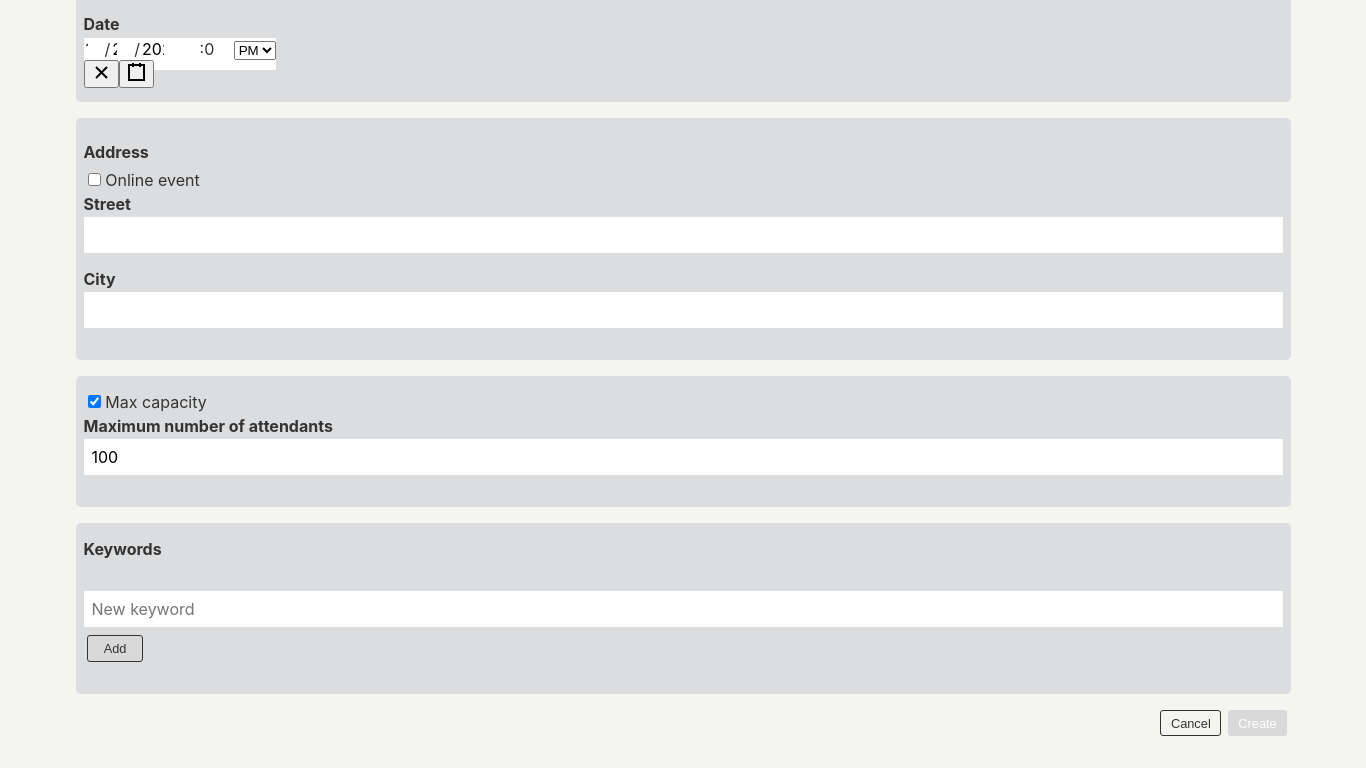
Scenario: Create Meetup unit tests › updates keyword list when submitting new keyword
The width and height of the screenshot is (1366, 768).
(page scrolled)
In the field labelled "New keyword": (683,609) [84,591,1282,627], type "basketball"
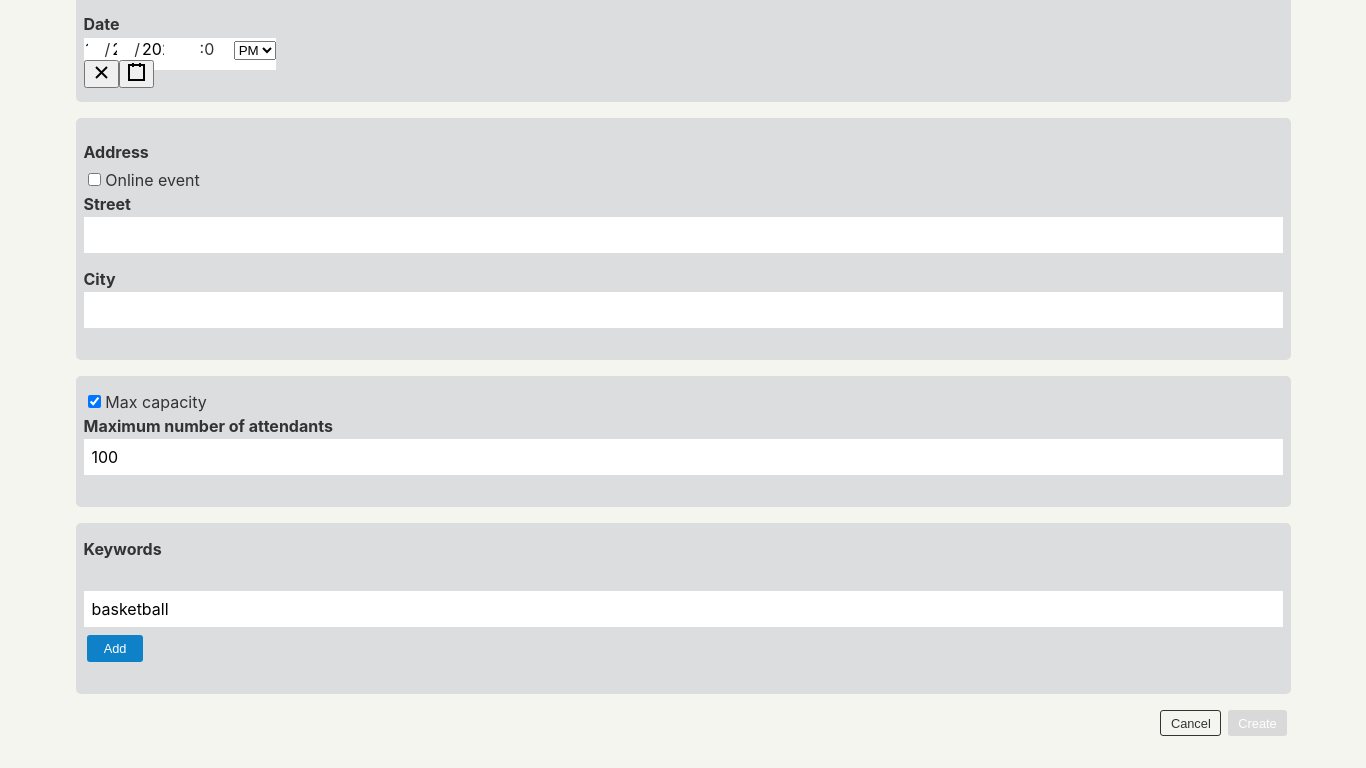
Click the button "Add": (115,648) [87,635,144,662]
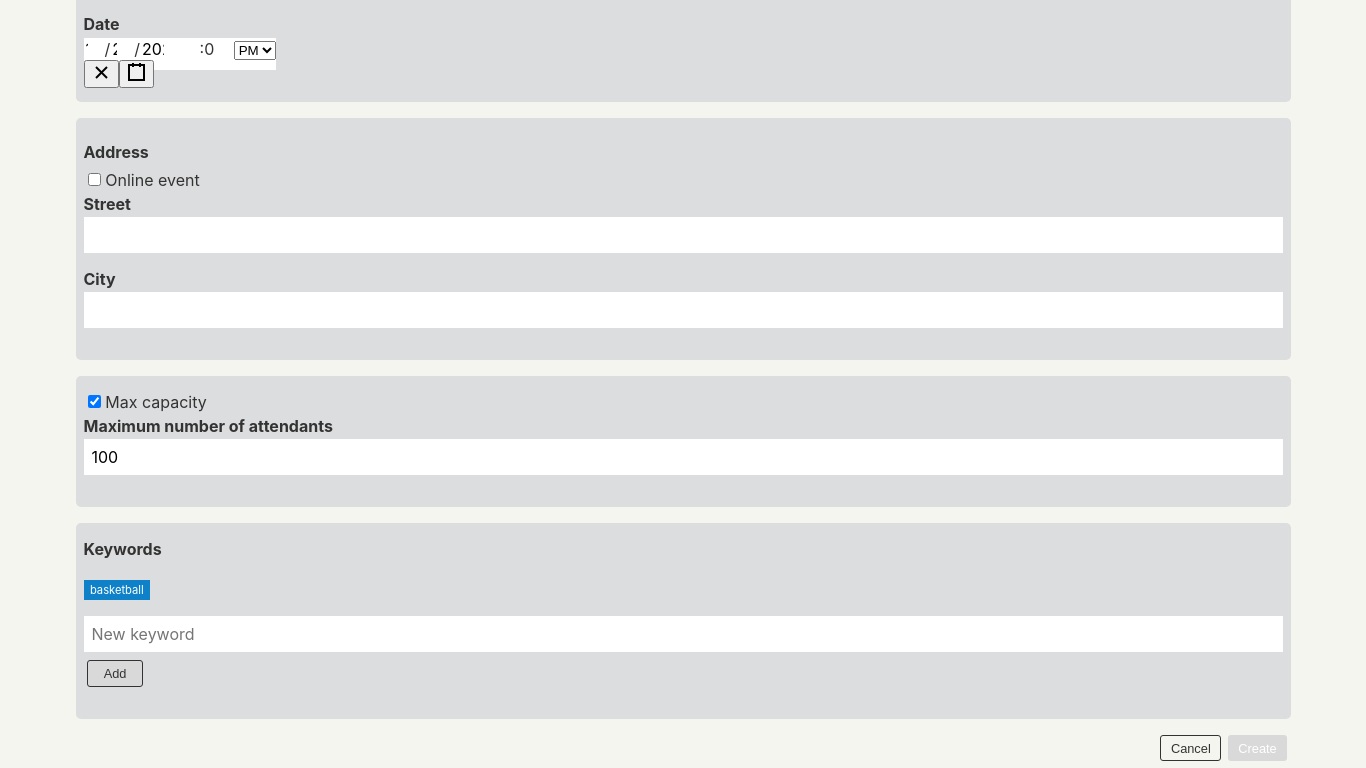
Check: the number of list items named "keyword" is 1, box [84,580,150,600]
Check: the list item with aria-label "keyword" reads "basketball", box [90,583,144,597]
